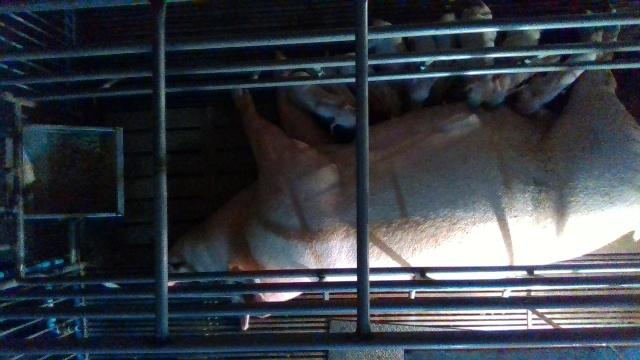piglet: (512, 29, 603, 115), (372, 18, 438, 106), (486, 29, 541, 107), (335, 52, 401, 116), (289, 72, 357, 129), (462, 3, 496, 105)
sow-sleep-lactate: (166, 26, 640, 331)
